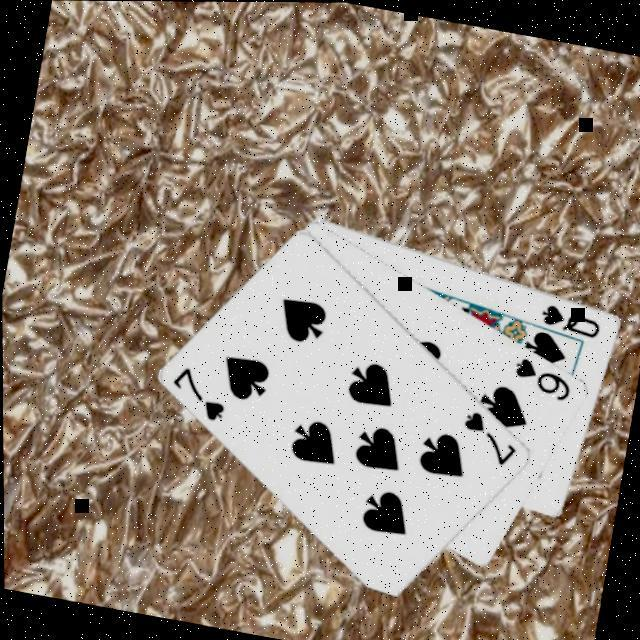6S: (506, 350, 576, 402)
7S: (162, 359, 234, 425), (454, 404, 524, 468)
QS: (534, 297, 605, 340)
